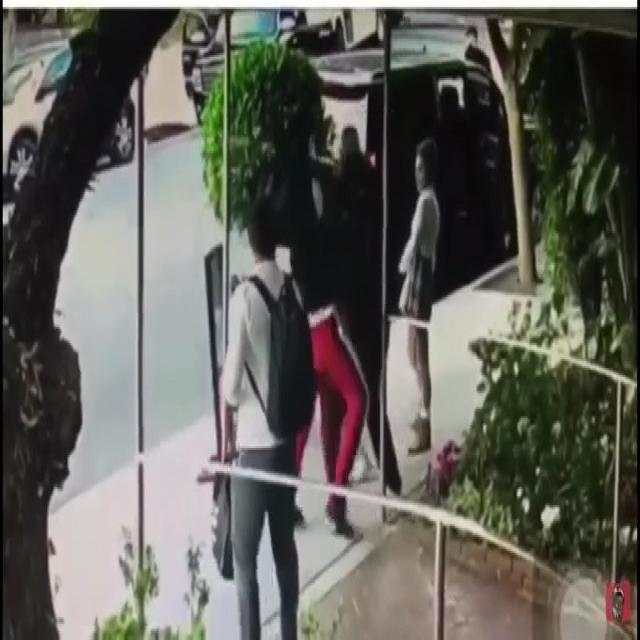fight: (272, 113, 407, 463)
